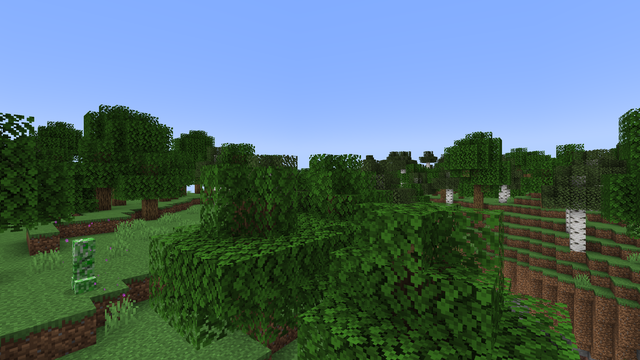creepers: (70, 235, 97, 294)
